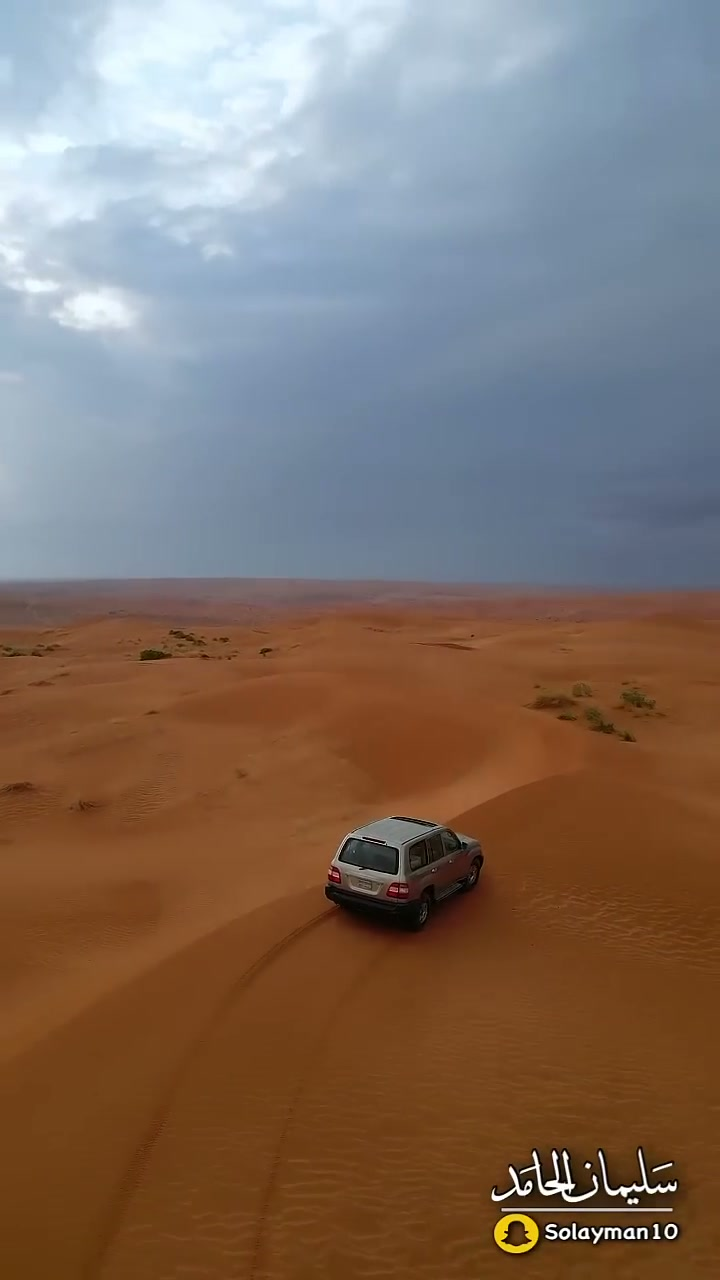vehicle_track: (85, 911, 397, 1279), (82, 908, 334, 1279), (246, 939, 394, 1279)
